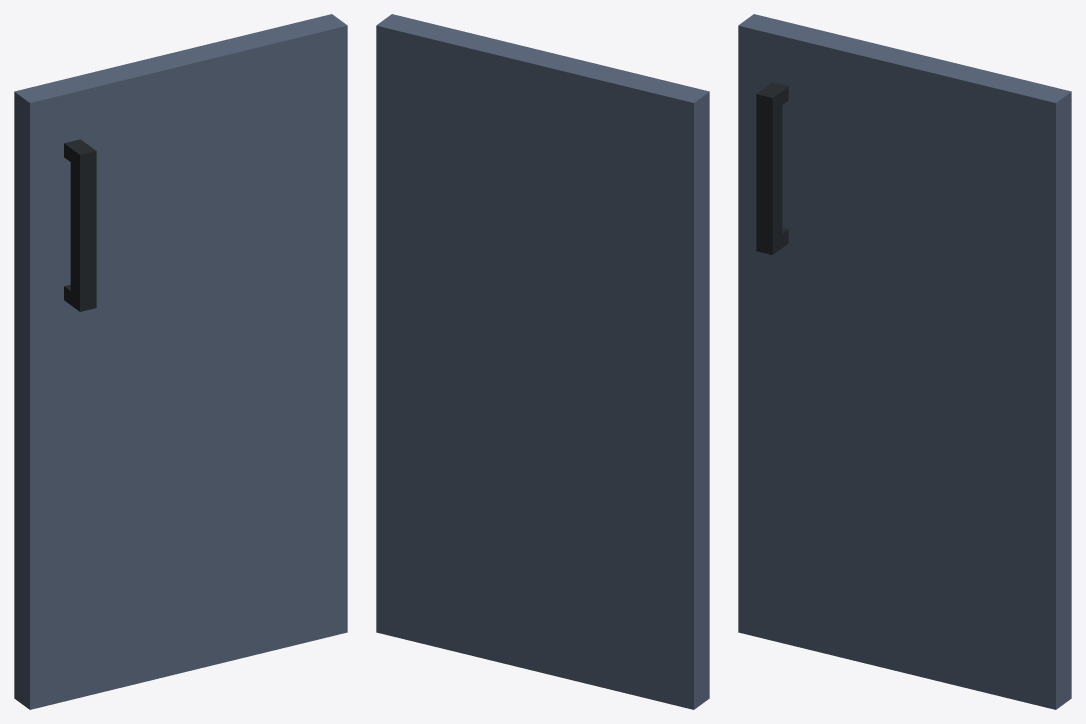
The model's file is Door1_C4_09.fbx.
The picture shows the model from 3 angles, left to right: view 1: azimuth 30°, elevation 25°; view 2: azimuth 150°, elevation 25°; view 3: azimuth 330°, elevation 25°; orthographic projection.
Parts seen in each view (by area): view 1: Door1_C4_09; view 2: Door1_C4_09; view 3: Door1_C4_09.
Boxes of the visible parts, box(x1,y1,x2,y2) form: Door1_C4_09: box(14, 14, 347, 709); Door1_C4_09: box(376, 14, 709, 709); Door1_C4_09: box(738, 14, 1071, 709).
Size of the model in its own units: 29 by 52.92 by 5.03.
